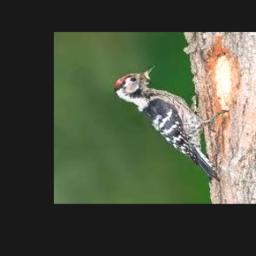Woodpecker: (113, 66, 228, 180)
